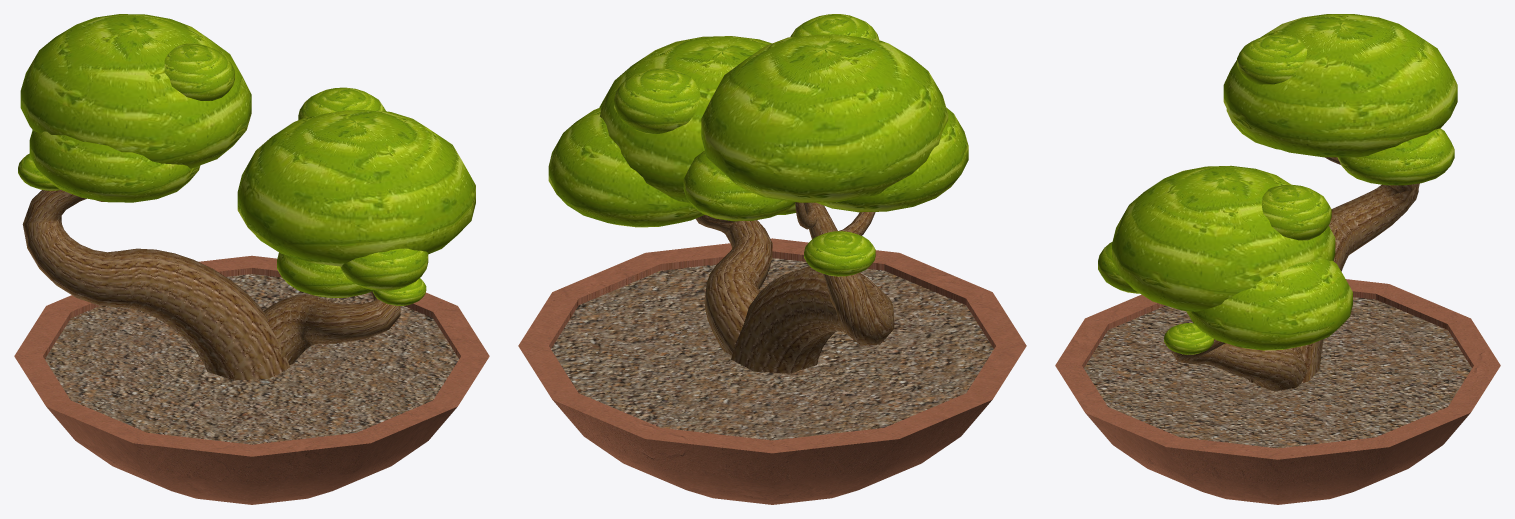
Rendered from Bonso.FBX.
3 renders of one model, left to right at view 1: azimuth 30°, elevation 25°; view 2: azimuth 150°, elevation 25°; view 3: azimuth 270°, elevation 25°, orthographic. The views are drawn at different scales.
Parts seen in each view (by area): view 1: Bonsai; view 2: Bonsai; view 3: Bonsai.
Part boxes in pixels (bbox=[...]): Bonsai: bbox=[14, 14, 489, 504]; Bonsai: bbox=[518, 14, 1026, 504]; Bonsai: bbox=[1055, 14, 1500, 504].
Bounding box in the file's own units: 34.43 × 35.57 × 34.43.
15 materials, 15 textured.
